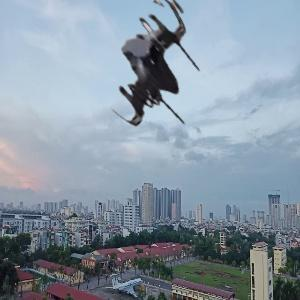drone: (99, 16, 226, 143)
